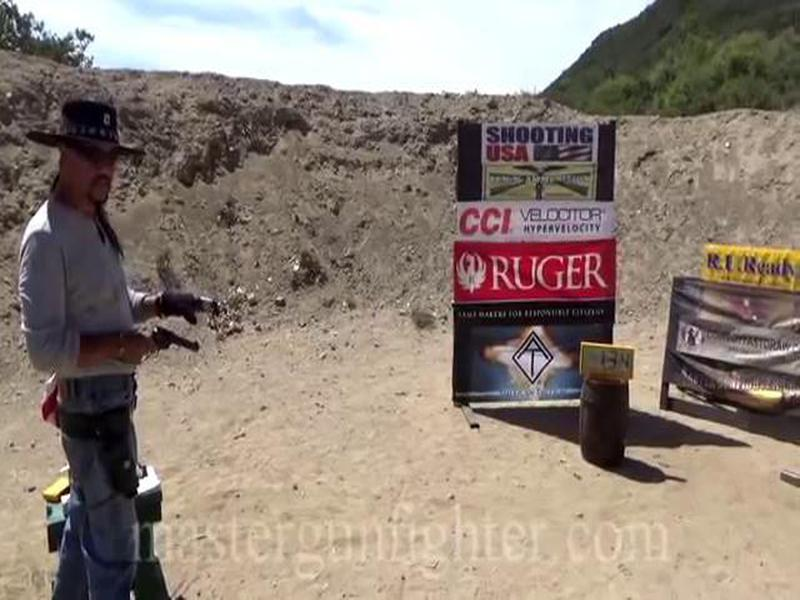Revolver: (114, 313, 227, 383)
